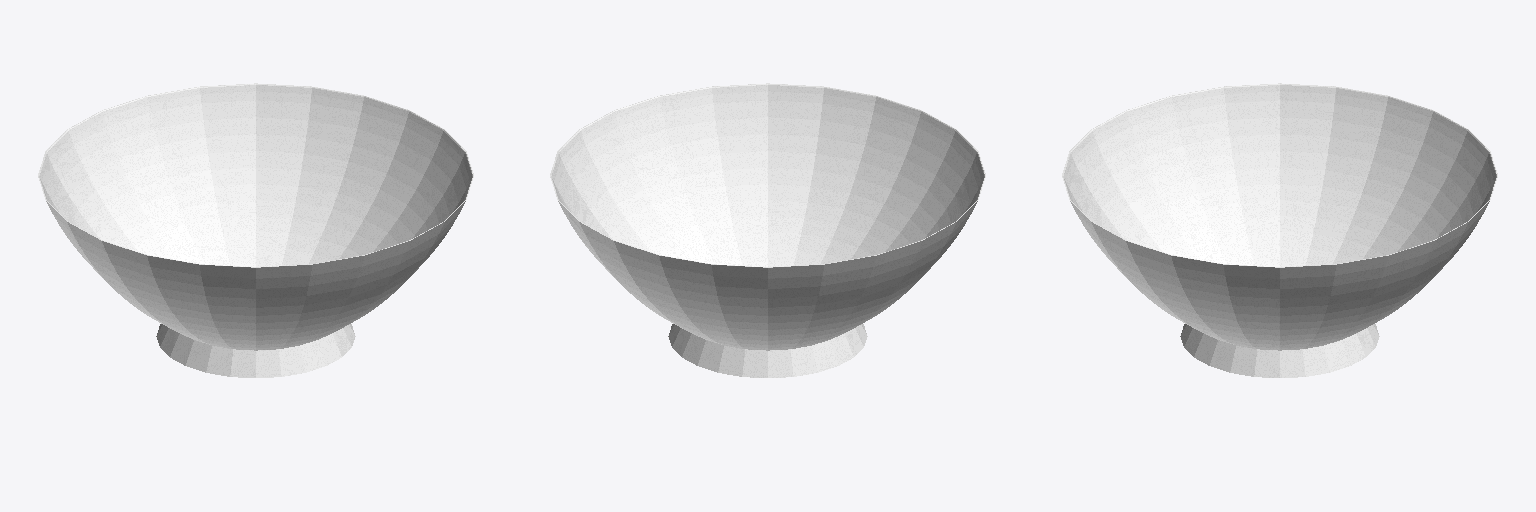
3 views of the same model, side by side, from view 1: azimuth 30°, elevation 25°; view 2: azimuth 150°, elevation 25°; view 3: azimuth 270°, elevation 25° (orthographic).
Parts seen in each view (by area): view 1: SketchUp_ID3.002, SketchUp.002_ID19.003; view 2: SketchUp_ID3.002, SketchUp.002_ID19.003; view 3: SketchUp_ID3.002, SketchUp.002_ID19.003.
Boxes of the visible parts, x1=… form: SketchUp_ID3.002: x1=39, y1=84, x2=472, y2=266; SketchUp.002_ID19.003: x1=38, y1=83, x2=473, y2=377; SketchUp_ID3.002: x1=551, y1=84, x2=984, y2=266; SketchUp.002_ID19.003: x1=550, y1=83, x2=985, y2=377; SketchUp_ID3.002: x1=1063, y1=84, x2=1496, y2=266; SketchUp.002_ID19.003: x1=1062, y1=83, x2=1497, y2=377.
Size of the model in its own units: 0.3892 by 0.1583 by 0.3892.